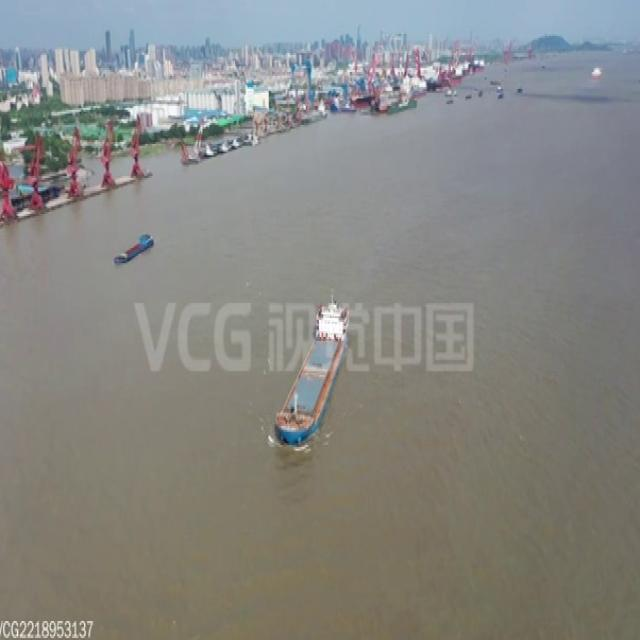cargoship: (275, 292, 351, 448), (111, 228, 156, 264)
